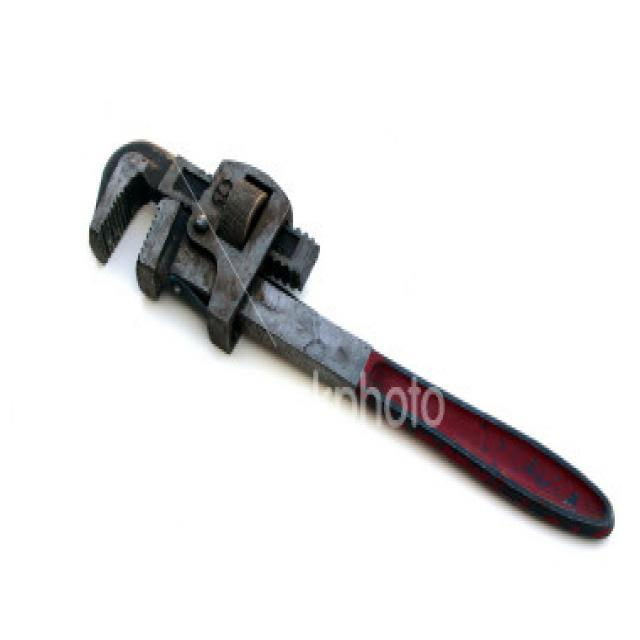wrench: (83, 127, 622, 552)
